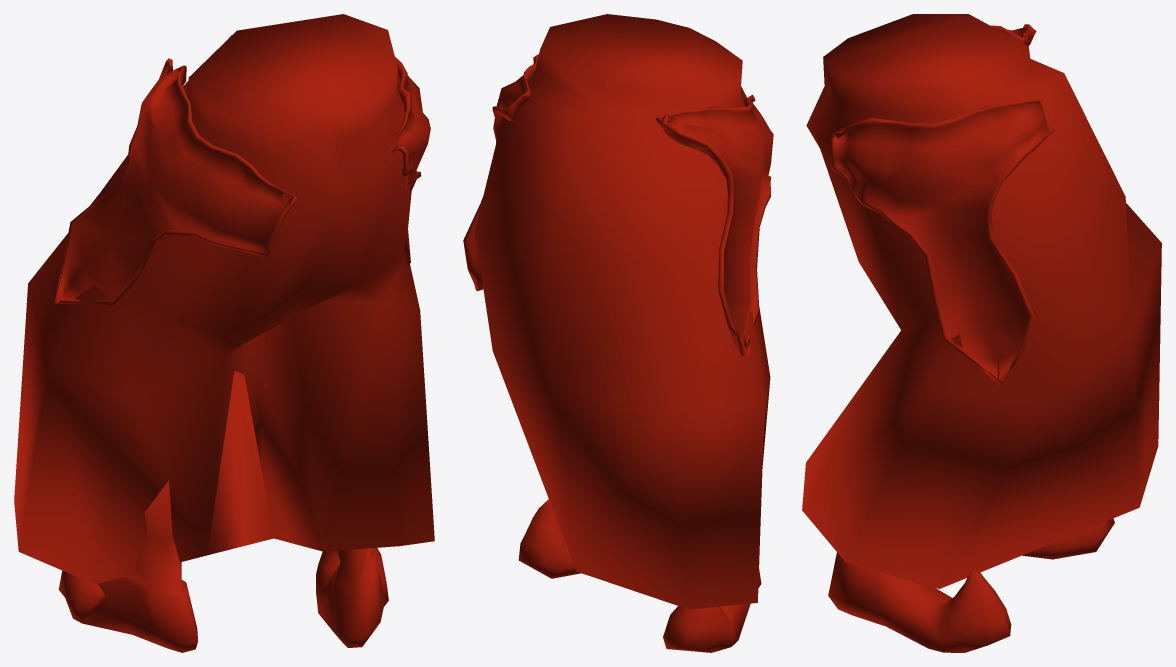
File: bot_000067.obj
The picture shows the model from 3 angles, left to right: view 1: azimuth 30°, elevation 25°; view 2: azimuth 150°, elevation 25°; view 3: azimuth 270°, elevation 25°; orthographic projection. The views are drawn at different scales.
Parts seen in each view (by area): view 1: LowPoly_Warlock.004_Plane.004; view 2: LowPoly_Warlock.004_Plane.004; view 3: LowPoly_Warlock.004_Plane.004.
Boxes of the visible parts, x1=… form: LowPoly_Warlock.004_Plane.004: x1=14, y1=14, x2=434, y2=652; LowPoly_Warlock.004_Plane.004: x1=463, y1=14, x2=773, y2=652; LowPoly_Warlock.004_Plane.004: x1=802, y1=14, x2=1161, y2=652.
Bounding box in the file's own units: 0.6348 × 1.01 × 0.577.
